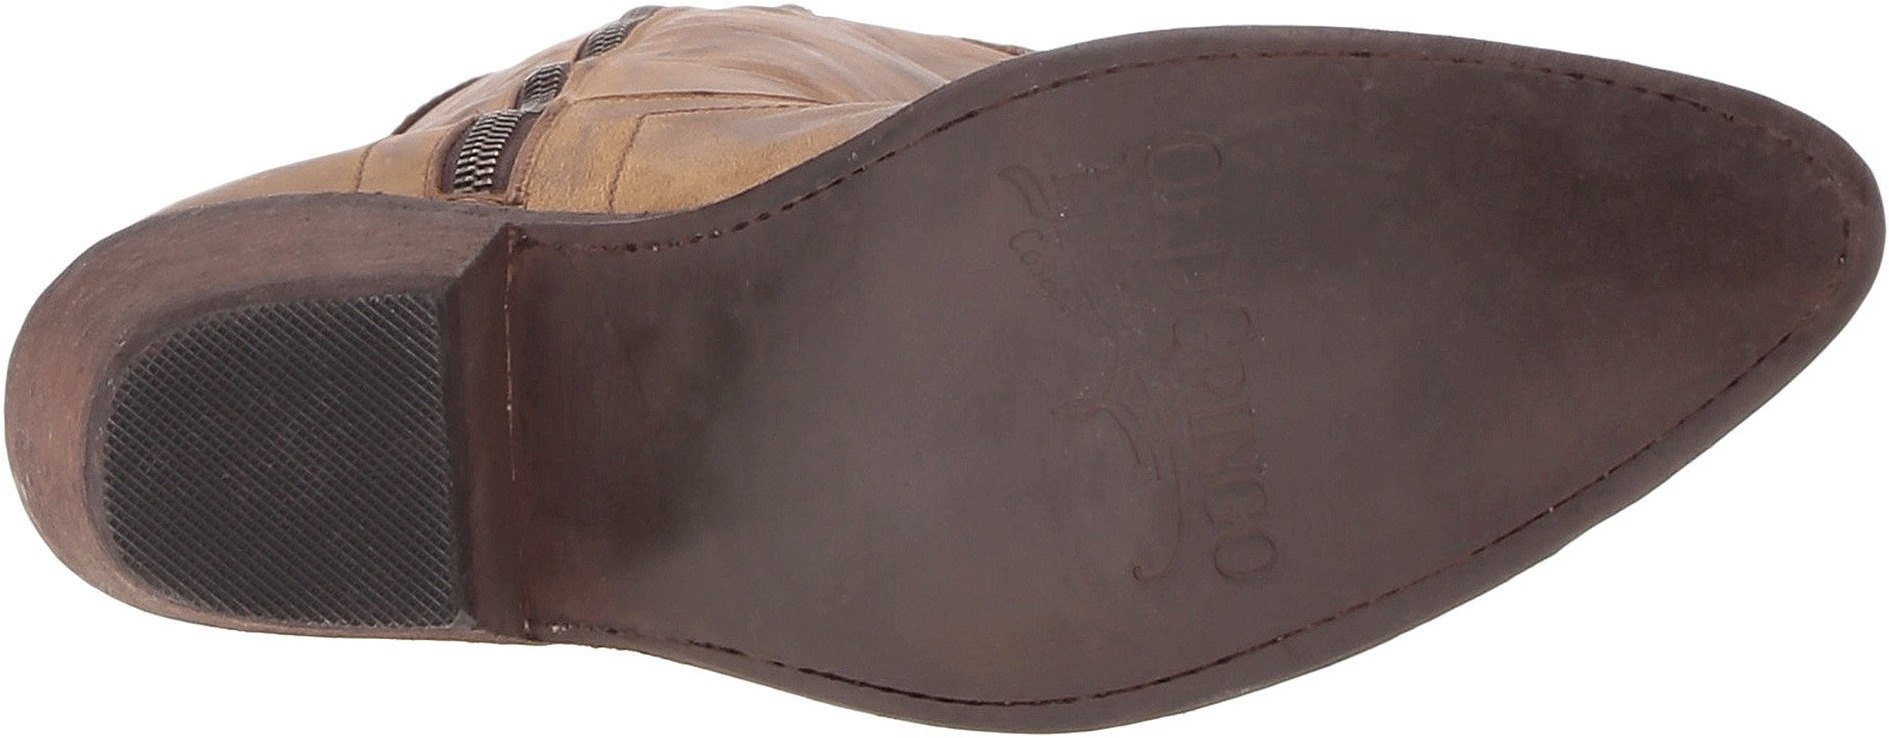line: (139, 366, 296, 538), (298, 355, 449, 510)
other: (1543, 116, 1752, 346), (1311, 287, 1536, 492), (1254, 66, 1458, 273), (969, 473, 1137, 648), (814, 199, 952, 341), (955, 300, 1069, 407)
quad: (139, 366, 296, 538), (298, 355, 449, 510)
text: (1051, 129, 1242, 293), (1130, 307, 1275, 445), (1160, 451, 1301, 590)
